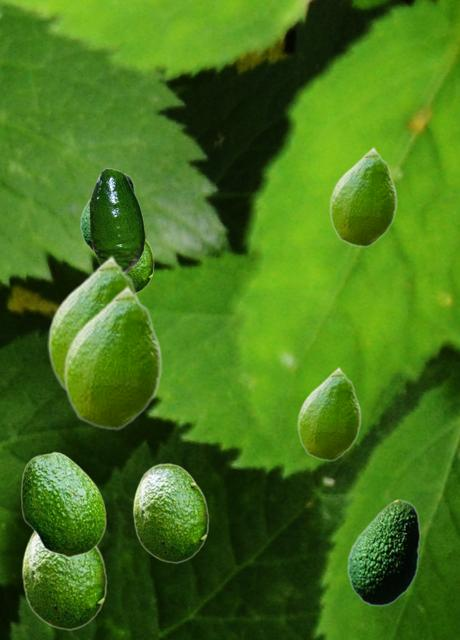avocado: (63, 284, 161, 429), (47, 254, 142, 391), (20, 451, 105, 556), (21, 531, 106, 629), (347, 499, 419, 605), (132, 463, 208, 562), (329, 146, 396, 246), (297, 366, 360, 460), (89, 168, 144, 272), (80, 173, 134, 252), (127, 237, 153, 292)
